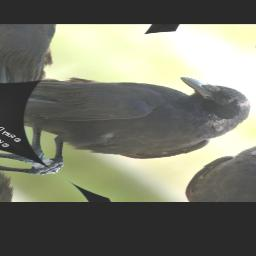Crow: (0, 31, 256, 197)
